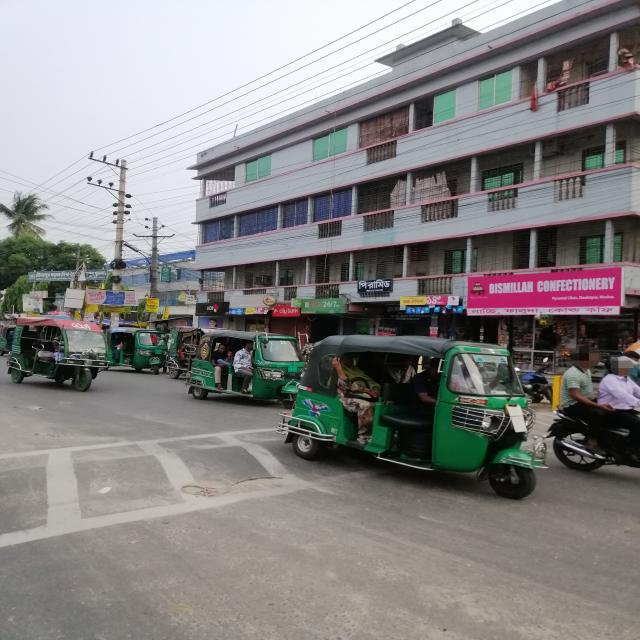CNG: (283, 339, 550, 505)
Easybike: (1, 318, 111, 395)
